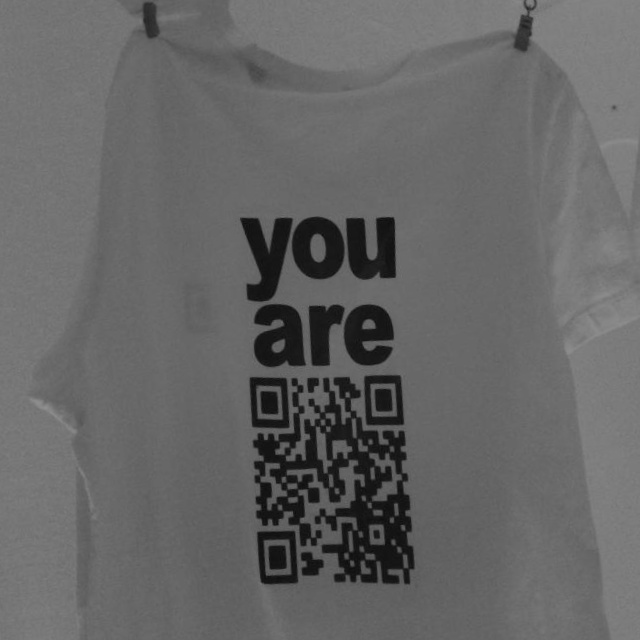qr-code: (234, 357, 428, 604)
